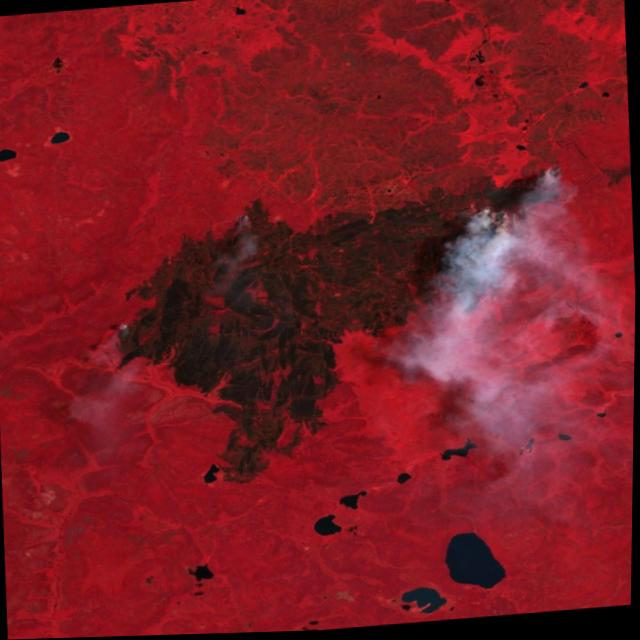fire: (463, 171, 578, 251)
